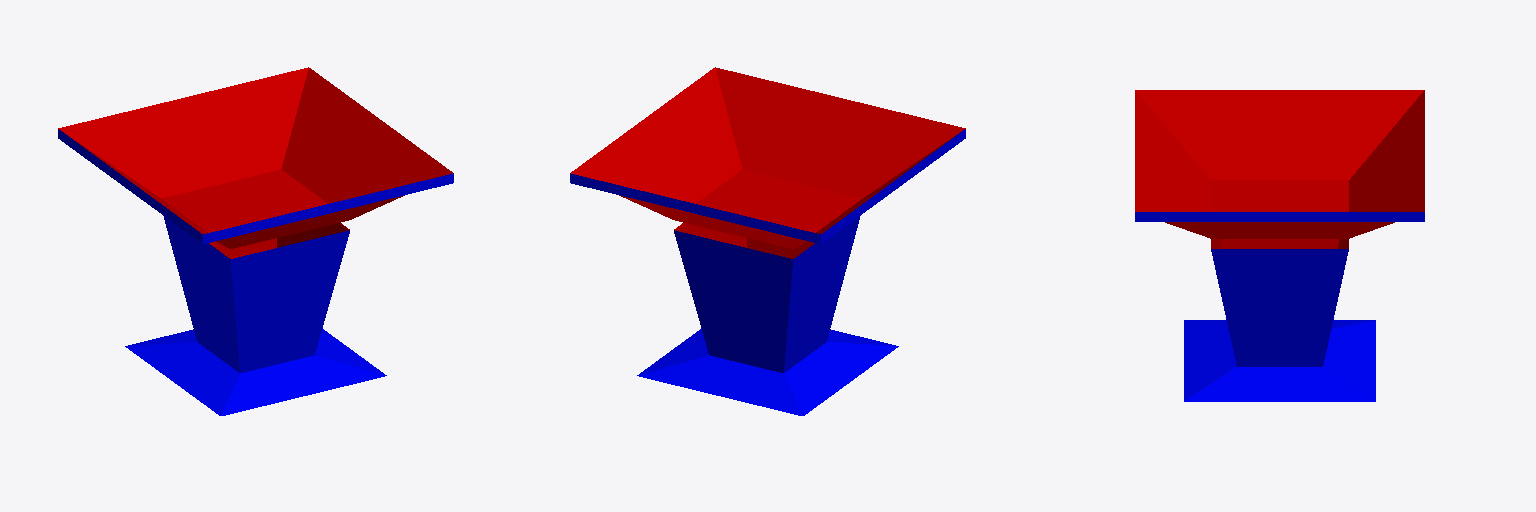
Rendered from cute_holder_2col.obj.
3 renders of one model, left to right at view 1: azimuth 30°, elevation 25°; view 2: azimuth 150°, elevation 25°; view 3: azimuth 270°, elevation 25°, orthographic.
Visible parts, largest first — view 1: Cube; view 2: Cube; view 3: Cube.
Part boxes in pixels (bbox=[...]): Cube: bbox=[58, 67, 453, 415]; Cube: bbox=[570, 67, 965, 415]; Cube: bbox=[1135, 90, 1424, 401].
Bounding box in the file's own units: 4.19 × 3.35 × 4.19.